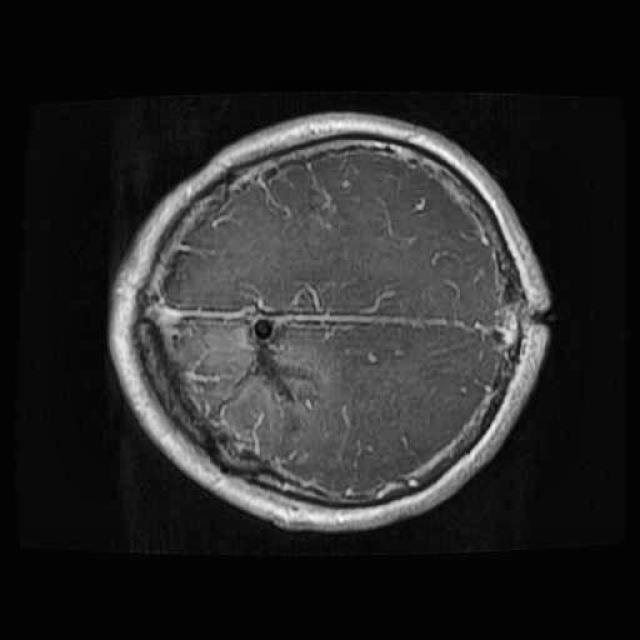Tumor: (232, 313, 316, 417)
